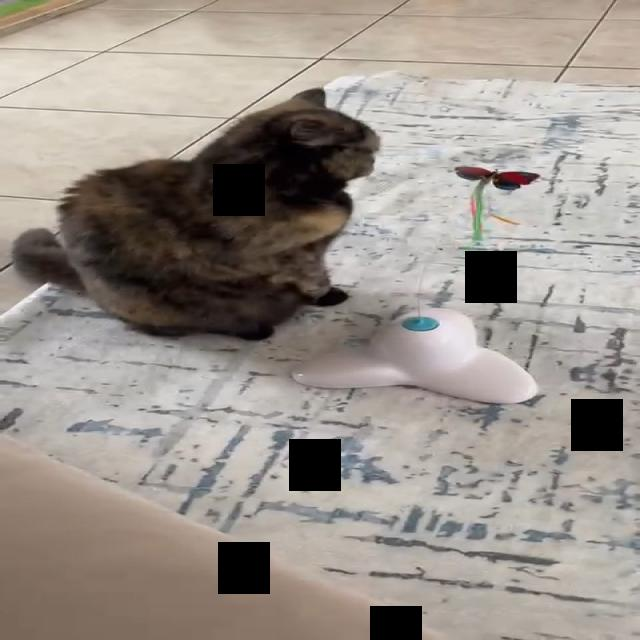authorized: (11, 86, 380, 341)
